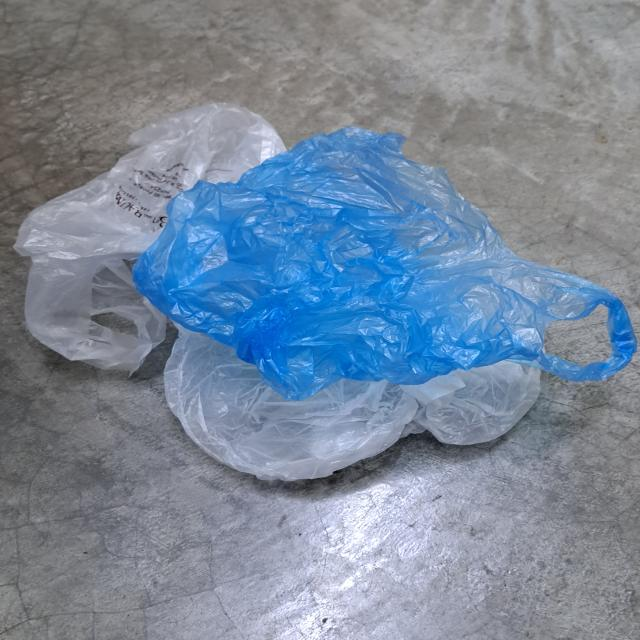plastic bag: (140, 124, 640, 404), (17, 100, 293, 379), (161, 321, 548, 484)
